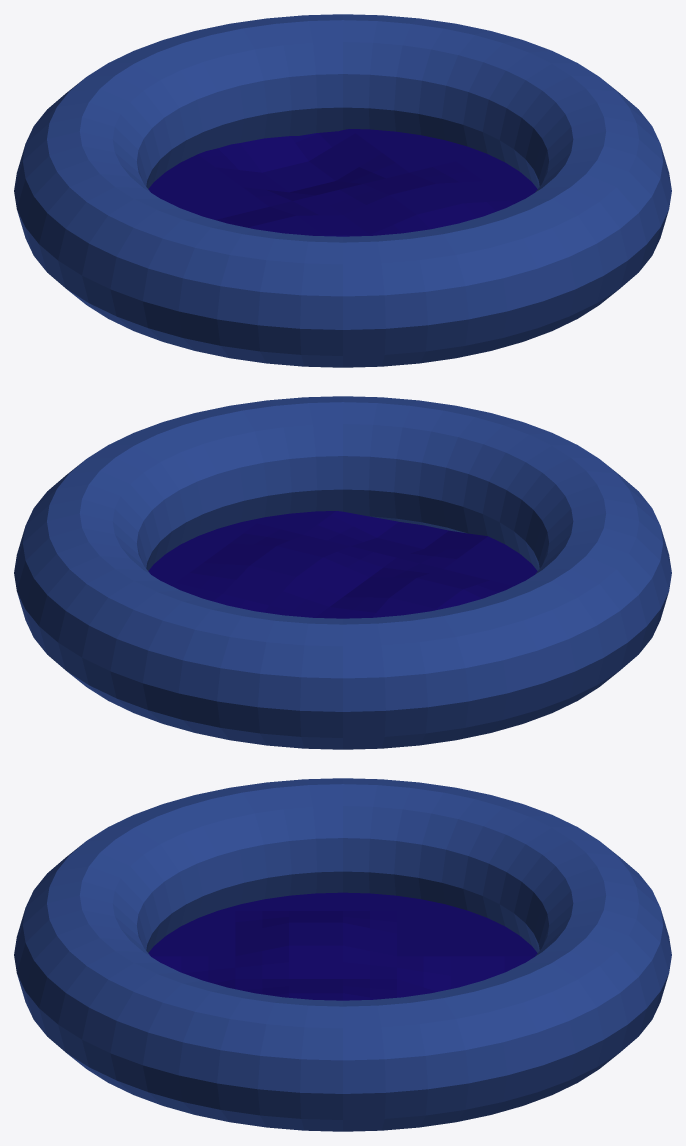
Rendered from cat_bed.fbx.
The picture shows the model from 3 angles, top to bottom: view 1: azimuth 30°, elevation 25°; view 2: azimuth 150°, elevation 25°; view 3: azimuth 270°, elevation 25°; orthographic projection.
Parts seen in each view (by area): view 1: Torus, Plane; view 2: Torus, Plane; view 3: Torus, Plane.
Boxes of the visible parts, left/top/right/bottom form: Torus: left=14, top=14, right=671, bottom=367; Plane: left=148, top=129, right=537, bottom=236; Torus: left=14, top=396, right=671, bottom=749; Plane: left=148, top=511, right=537, bottom=618; Torus: left=14, top=778, right=671, bottom=1131; Plane: left=148, top=892, right=537, bottom=1000.
Size of the model in its own units: 112 by 22.3 by 112.
